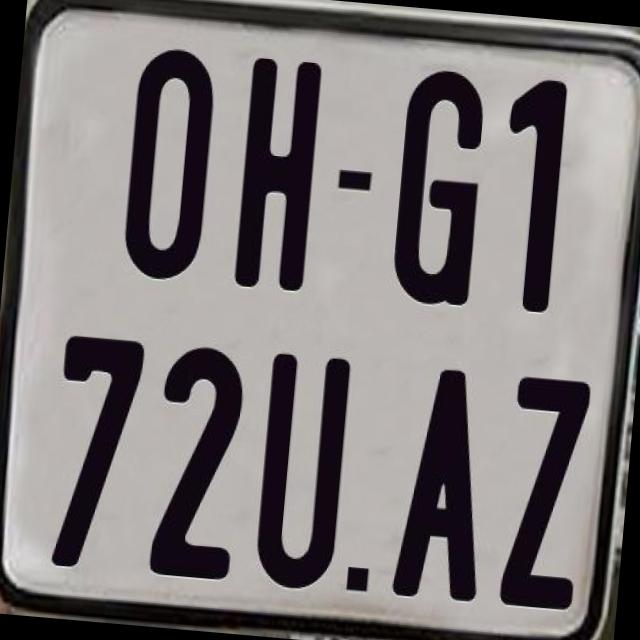0: (120, 42, 218, 280)
1: (492, 75, 571, 321)
2: (144, 342, 244, 578)
7: (43, 332, 143, 578)
A: (389, 366, 495, 606)
G: (388, 68, 488, 308)
H: (230, 54, 326, 298)
U: (251, 348, 354, 596)
Z: (494, 370, 594, 612)
